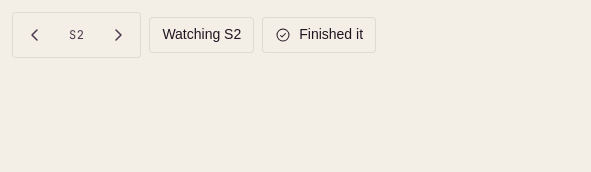
Test: InProgressActions — finished it › shows an error if the action fails
Click the button named "next season" at (118, 35), box [96,13,140,57]
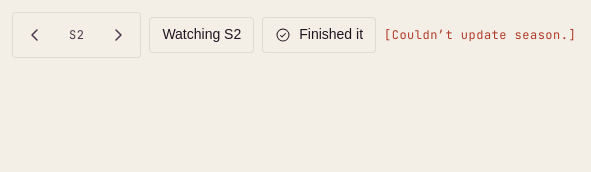
Expected: the message shows "Couldn’t update season", [392,27,568,43]
